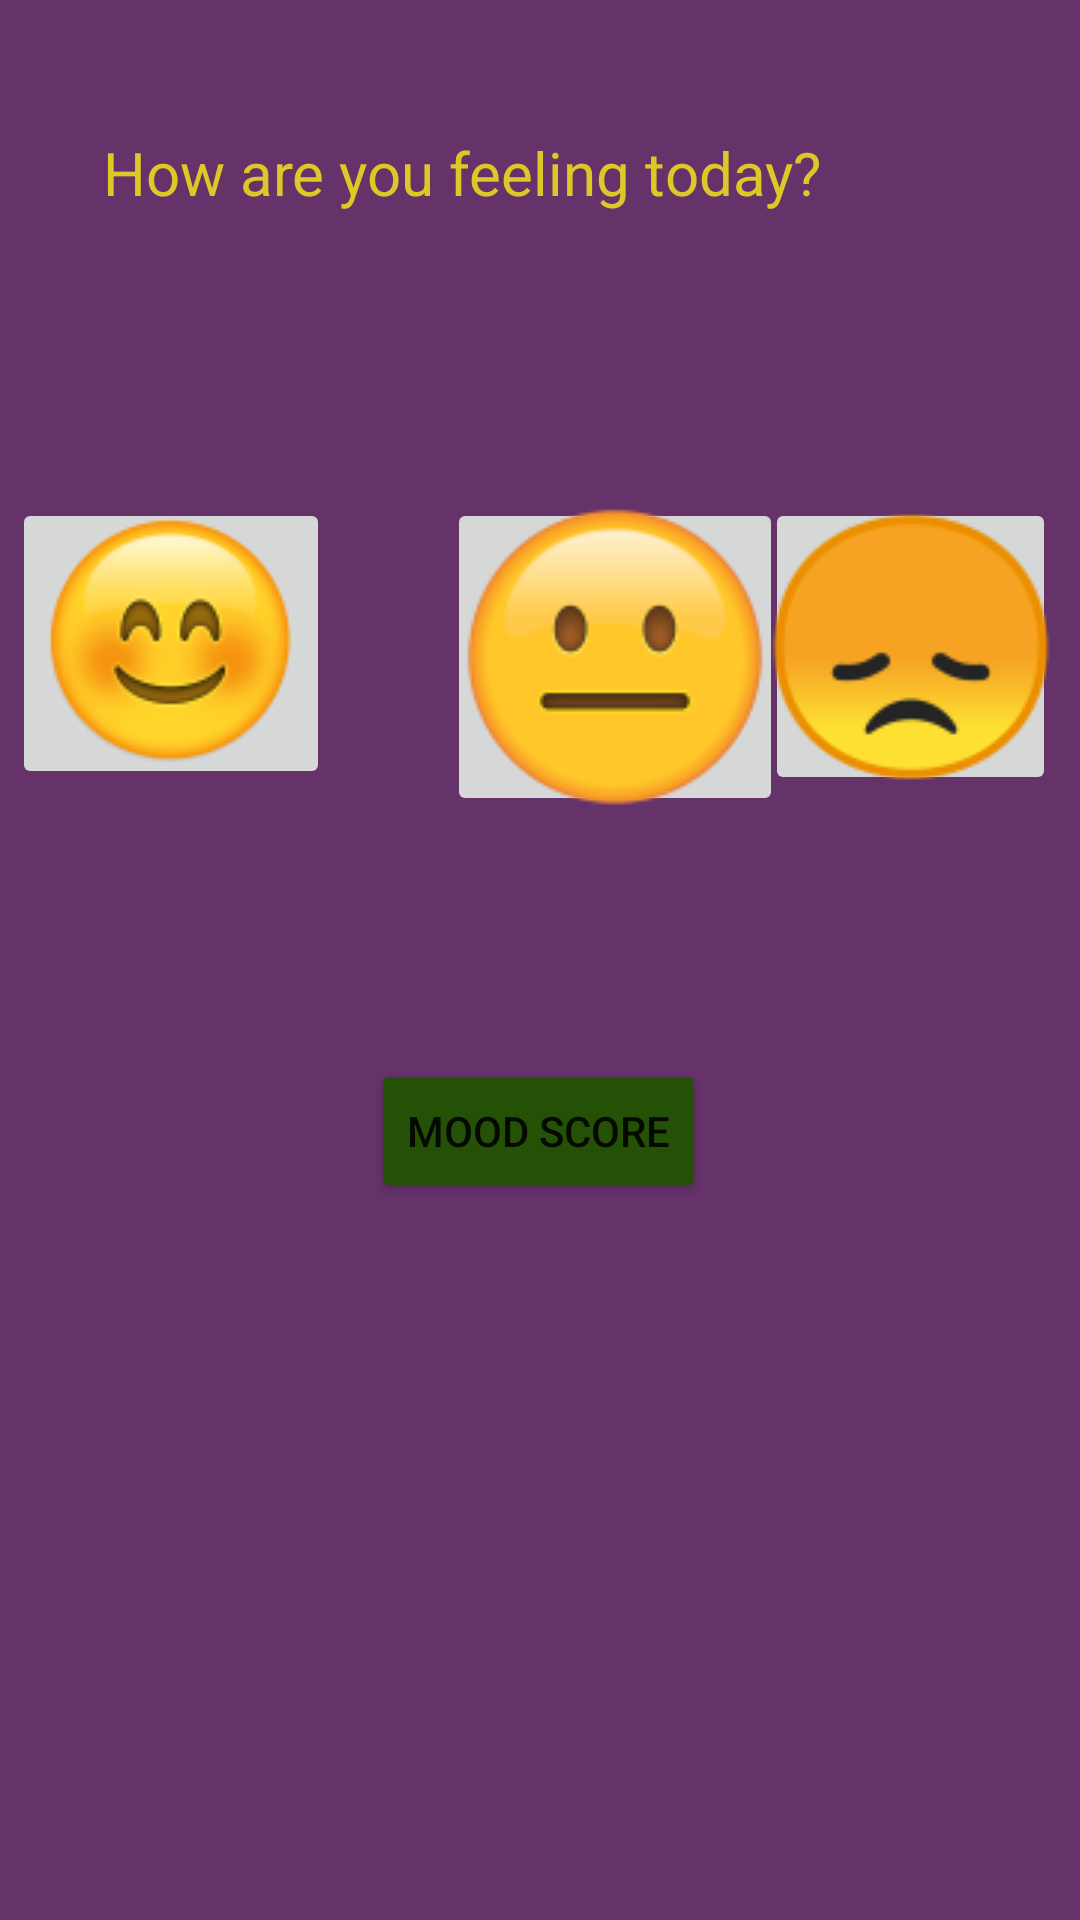

Named icons in this screenshot (1080w x 1920h) and their bounding boxes, Rect(x1, y1, x2, y2):
happybtn: Rect(24, 516, 318, 771)
sed: Rect(773, 514, 1049, 780)
